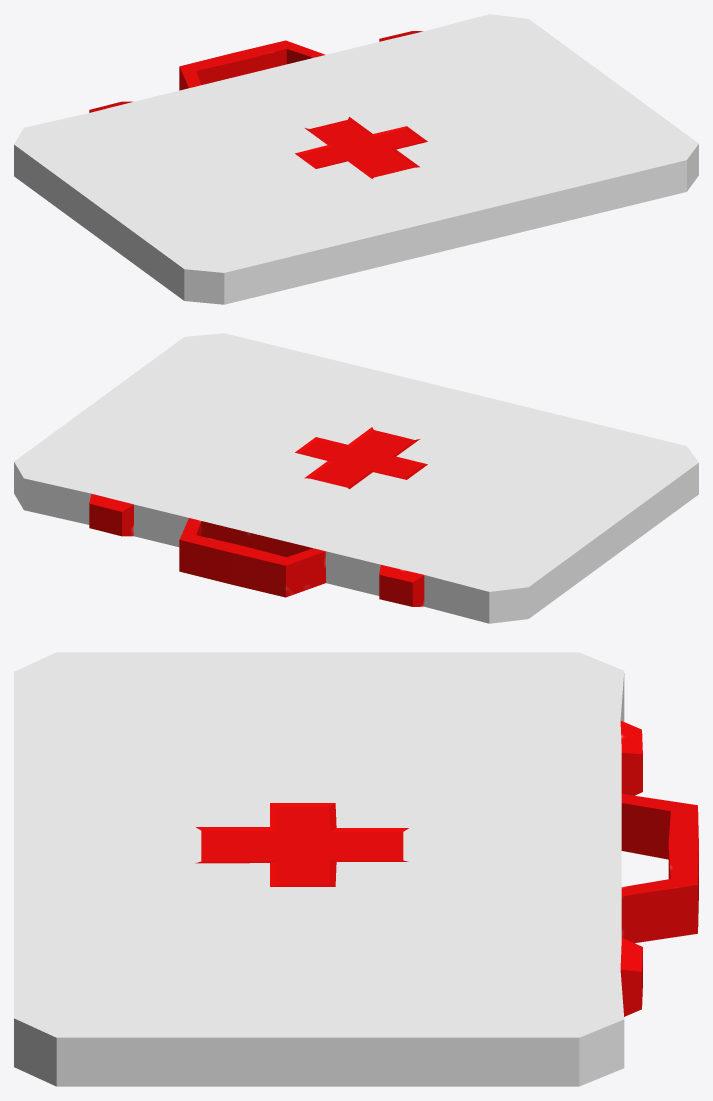
File: med.glb
3 views of the same model, one above another, from view 1: azimuth 30°, elevation 25°; view 2: azimuth 150°, elevation 25°; view 3: azimuth 270°, elevation 25° (orthographic). The views are drawn at different scales.
Parts seen in each view (by area): view 1: Cube (×3); view 2: Cube (×3); view 3: Cube (×3).
Part boxes in pixels (bbox=[...]): Cube (×3): bbox=[14, 14, 698, 304]; Cube (×3): bbox=[14, 333, 698, 623]; Cube (×3): bbox=[14, 652, 698, 1086].
Bounding box in the file's own units: 2 × 0.1182 × 1.5.
Materials: 3 (3 with a texture image).
